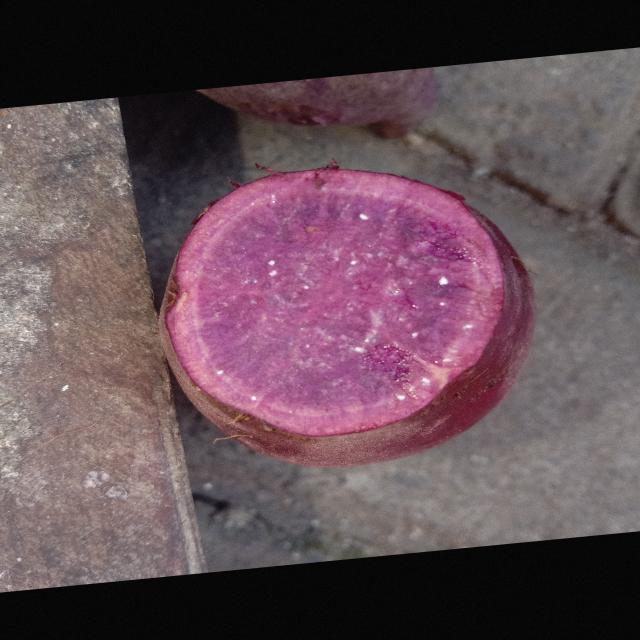Healthy Sweet Potato: (167, 169, 503, 436)
